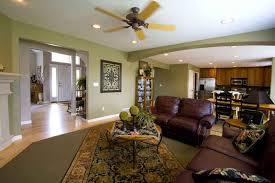chair: (214, 98, 233, 125), (239, 97, 259, 121)
door: (59, 62, 72, 102), (189, 71, 195, 99)
fan: (93, 0, 176, 41)
light: (91, 22, 102, 32), (162, 51, 172, 60), (202, 61, 217, 67), (232, 54, 241, 62), (157, 83, 164, 89), (178, 58, 184, 64), (231, 44, 238, 48), (232, 65, 238, 69)
sofa: (168, 116, 274, 183), (143, 93, 212, 140)
table: (105, 122, 165, 163), (208, 99, 275, 120), (221, 116, 247, 137), (30, 82, 44, 103)
